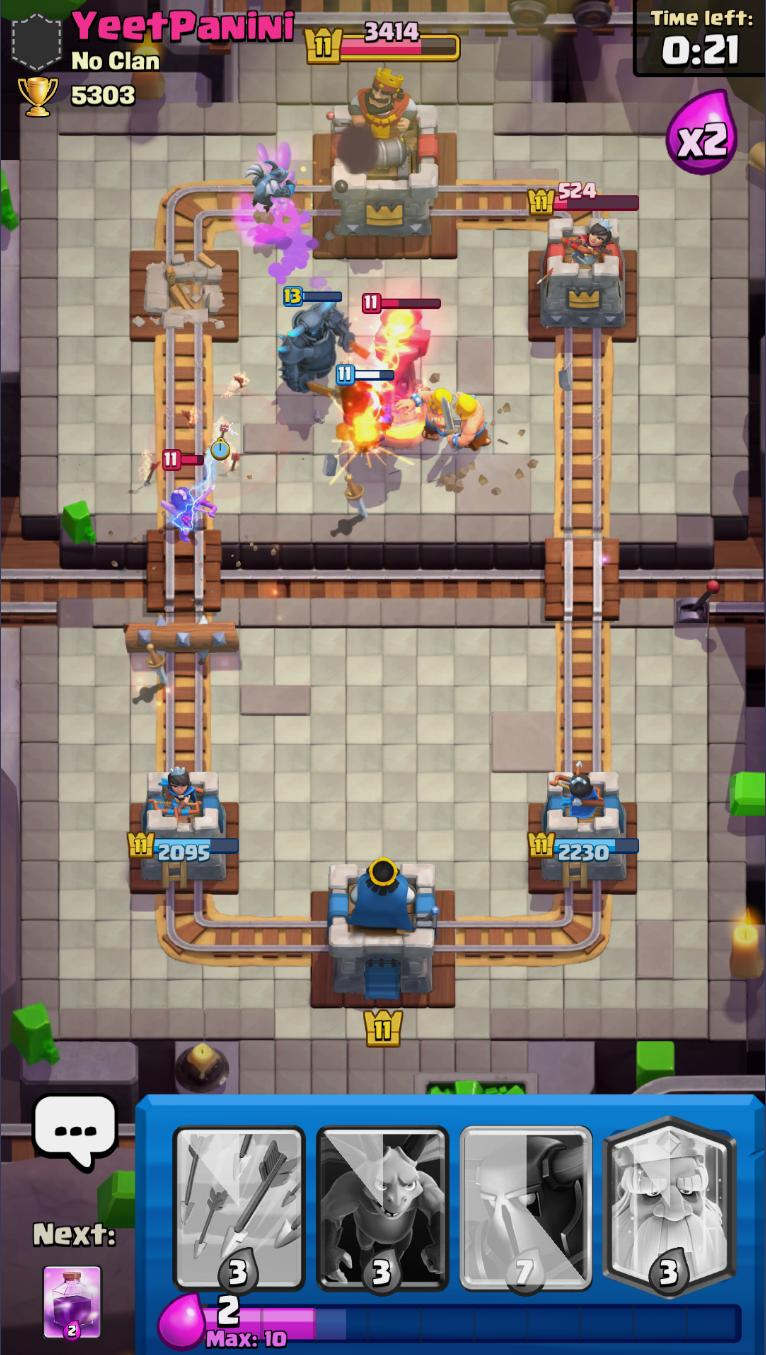ArrowDeck: (167, 1095, 310, 1296)
ArrowNext: (41, 1264, 103, 1343)
Elixir: (203, 1295, 744, 1350)
EnemyTower: (533, 214, 631, 331)
EnemyTowerBrocken: (125, 252, 236, 350)
Inferno: (361, 291, 446, 449)
KingTower: (326, 80, 443, 243)
KingTowerHP: (304, 20, 461, 65)
Log: (122, 615, 241, 656)
MinionsDeck: (311, 1095, 455, 1296)
MyBarbarian: (399, 383, 458, 443), (441, 388, 495, 453)
MyKingTower: (326, 858, 440, 1000)
MyMinion: (244, 155, 300, 208)
MyPekka: (278, 286, 370, 398)
MyPrincessTower: (126, 768, 240, 886), (528, 770, 640, 886)
MyPrincessTowerHP: (126, 830, 239, 862), (527, 832, 640, 862)
PekkaDeck: (456, 1094, 598, 1295)
Princess: (156, 449, 217, 541)
PrincessTower: (562, 212, 617, 266)
RoyaleGhostDeck: (598, 1094, 742, 1296)
TowerPrincessHP: (527, 182, 640, 216)
